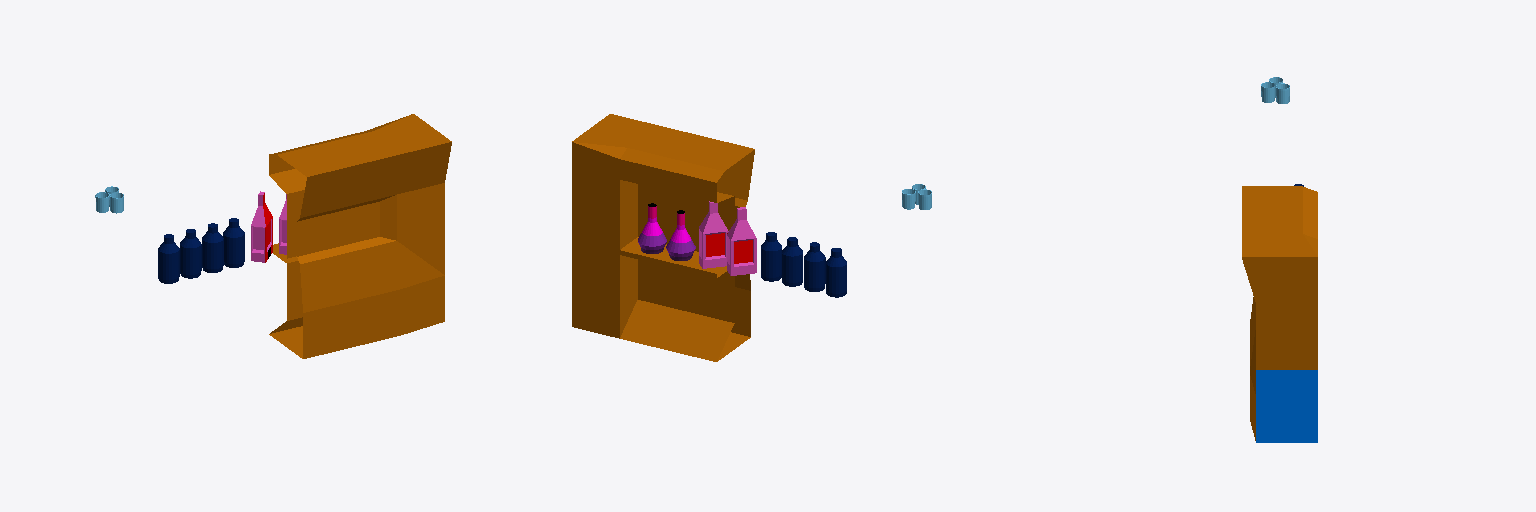
The picture shows the model from 3 angles: view 1: azimuth 30°, elevation 25°; view 2: azimuth 150°, elevation 25°; view 3: azimuth 270°, elevation 25°; orthographic projection.
Visible parts, largest first — view 1: pCube1, pCube4, pCylinder12, pCylinder10, pCylinder11, pCylinder3; view 2: pCube1, pCube4, pCube3, pCylinder11, pCylinder3, pCylinder10, pCylinder12, pCylinder1, pCylinder9; view 3: pCube1.
Part boxes in pixels (x1,y1,x2,y2): pCube1: (269,114,451,358); pCube4: (251,191,272,262); pCylinder12: (158,234,179,283); pCylinder10: (202,223,223,272); pCylinder11: (180,229,201,278); pCylinder3: (223,218,244,267); pCube1: (572,114,754,361); pCube4: (727,207,756,275); pCube3: (699,201,728,268); pCylinder11: (804,242,825,291); pCylinder3: (761,232,781,281); pCylinder10: (782,237,802,286); pCylinder12: (826,248,846,297); pCylinder1: (638,203,666,253); pCylinder9: (666,210,695,260); pCube1: (1242,186,1317,442).
Bounding box in the file's own units: 2 × 1.08 × 0.3766.
Materials: 5 (5 with a texture image).